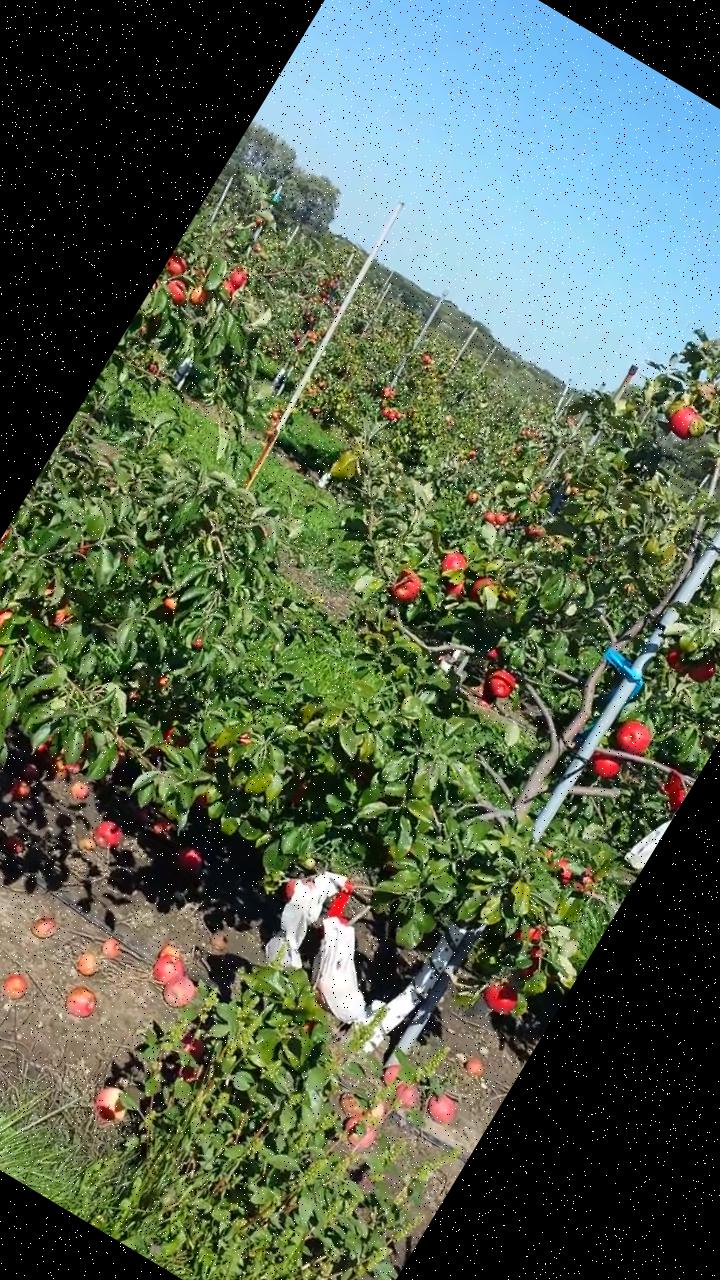Apple: (514, 940, 569, 996), (611, 713, 659, 761), (148, 718, 194, 766), (652, 770, 693, 816), (480, 977, 524, 1019), (536, 848, 581, 888), (664, 402, 704, 442), (388, 566, 428, 605), (482, 664, 520, 702), (683, 650, 719, 689), (588, 746, 625, 782), (158, 272, 194, 308), (47, 594, 81, 632), (162, 249, 194, 283), (439, 546, 471, 580), (467, 571, 498, 603), (156, 588, 187, 620), (664, 643, 694, 673), (184, 280, 213, 310), (226, 264, 255, 292), (517, 919, 545, 948), (0, 639, 18, 680), (278, 875, 303, 904), (574, 866, 599, 894), (0, 603, 18, 637), (191, 788, 215, 813), (154, 668, 176, 692), (187, 632, 210, 654), (447, 577, 468, 598), (40, 576, 60, 598), (236, 728, 256, 748), (219, 279, 239, 297), (485, 642, 503, 661), (115, 747, 131, 763), (304, 386, 317, 396), (271, 409, 282, 420)
